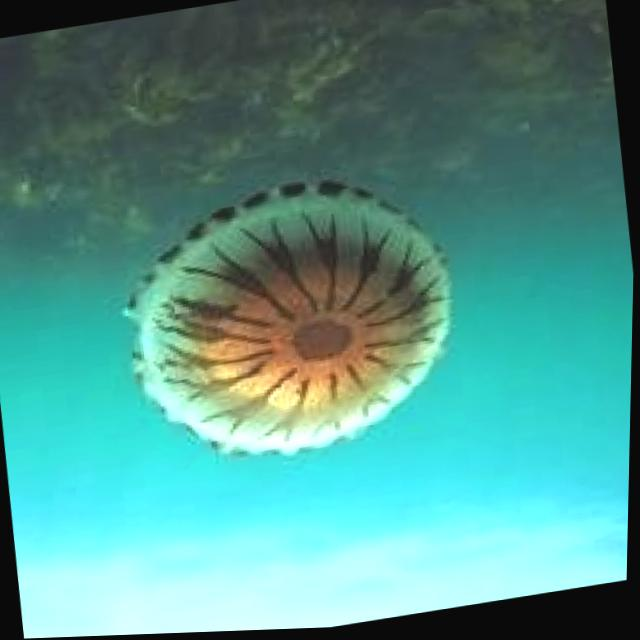Box-jellyfish: (110, 158, 475, 483)
